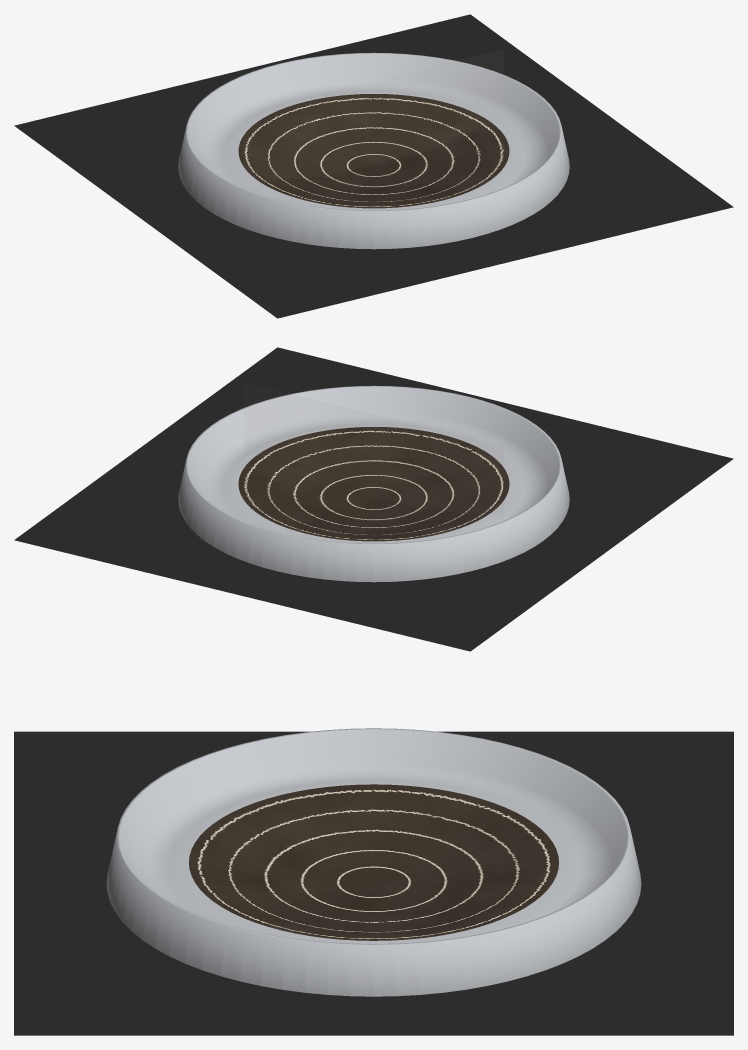
Rendered from long_range.glb.
The picture shows the model from 3 angles, top to bottom: view 1: azimuth 30°, elevation 25°; view 2: azimuth 150°, elevation 25°; view 3: azimuth 270°, elevation 25°; orthographic projection. The views are drawn at different scales.
Parts seen in each view (by area): view 1: stadium_long_range, shadow_catcher_long_range; view 2: stadium_long_range, shadow_catcher_long_range; view 3: stadium_long_range, shadow_catcher_long_range.
Boxes of the visible parts, left/top/right/bottom form: stadium_long_range: left=178, top=52, right=569, bottom=249; shadow_catcher_long_range: left=14, top=14, right=733, bottom=318; stadium_long_range: left=178, top=385, right=569, bottom=582; shadow_catcher_long_range: left=14, top=347, right=733, bottom=651; stadium_long_range: left=106, top=728, right=641, bottom=996; shadow_catcher_long_range: left=14, top=731, right=733, bottom=1035.
Bounding box in the file's own units: 952 × 170 × 952.
Materials: 4 (1 with a texture image).
